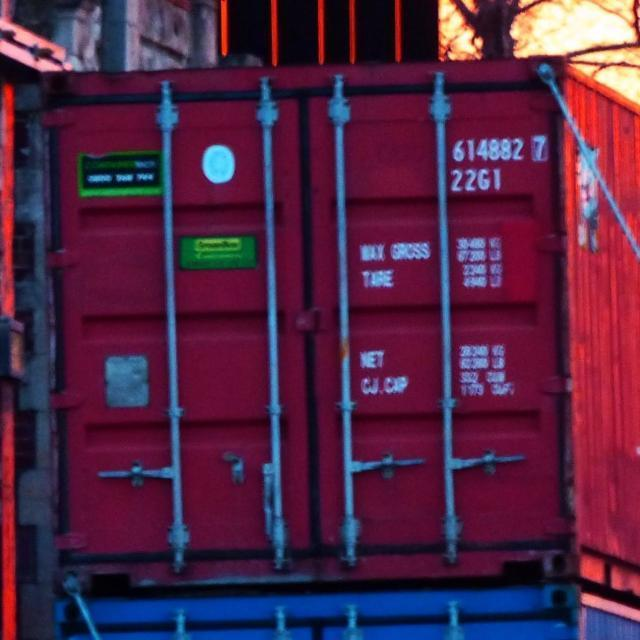ISO: (447, 166, 509, 190)
container_number: (454, 135, 544, 164)
